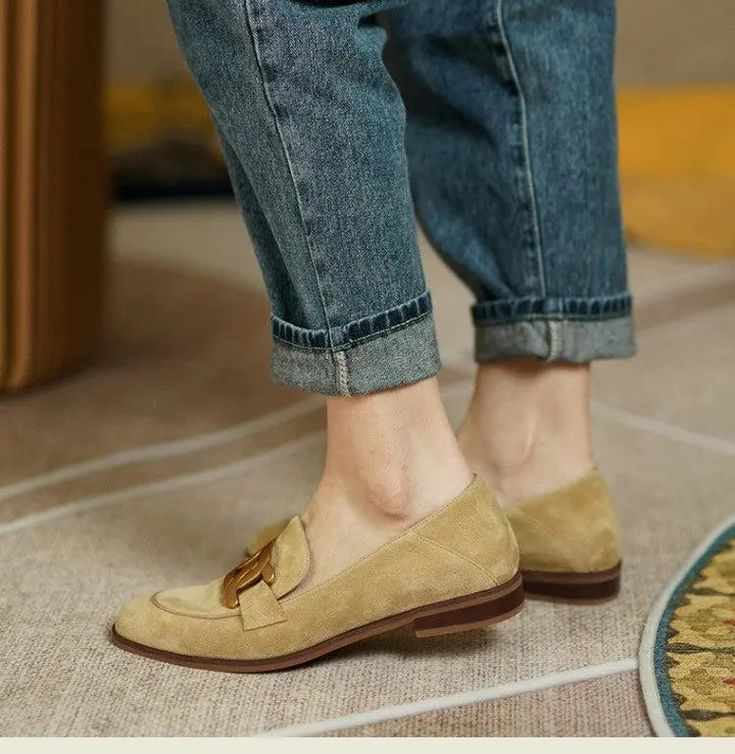gamuza: (116, 469, 625, 659)
